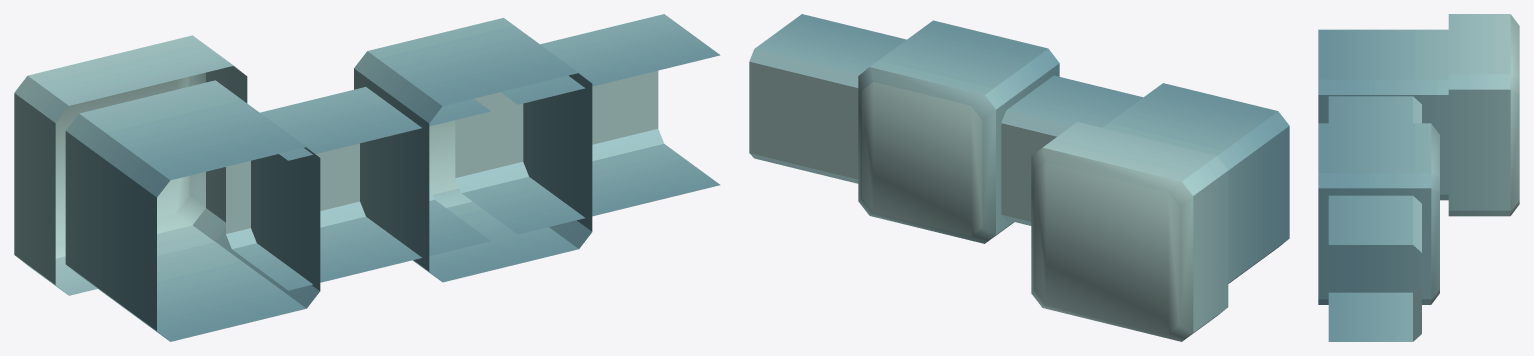
File: Border 01.FBX
3 views of the same model, side by side, from view 1: azimuth 30°, elevation 25°; view 2: azimuth 150°, elevation 25°; view 3: azimuth 270°, elevation 25° (orthographic). The views are drawn at different scales.
Parts seen in each view (by area): view 1: Border End 01, Border Middle 01, Border Connect 01; view 2: Border End 01, Border Middle 01, Border Connect 01; view 3: Border Middle 01, Border End 01, Border Connect 01.
Part boxes in pixels (x1,y1,x2,y2): Border End 01: (14,35,320,341); Border Middle 01: (354,14,720,282); Border Connect 01: (226,87,490,290); Border End 01: (1031,83,1289,341); Border Middle 01: (749,14,1059,243); Border Connect 01: (1001,75,1142,225); Border Middle 01: (1318,123,1439,341); Border End 01: (1318,14,1519,216); Border Connect 01: (1328,96,1421,123).
Size of the model in its own units: 510 by 158 by 203.
1 material, 1 textured.
